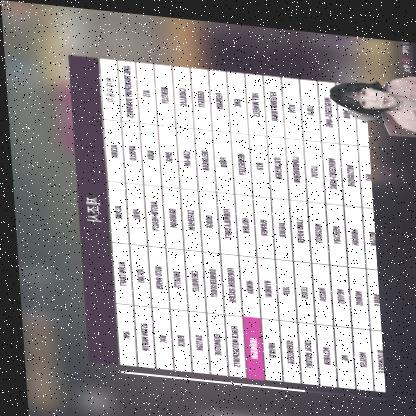streamer: (326, 61, 416, 128)
